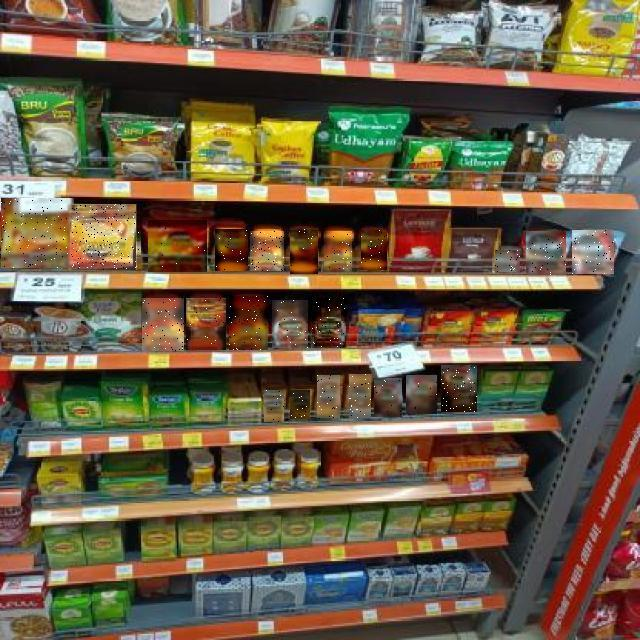Coffee: (2, 198, 76, 268), (72, 205, 140, 271), (148, 220, 207, 272), (142, 298, 184, 351), (229, 296, 268, 350), (186, 298, 226, 350), (572, 231, 614, 275), (526, 231, 566, 275), (272, 301, 308, 349), (312, 298, 346, 348), (441, 365, 477, 412), (215, 229, 248, 271), (250, 231, 284, 271), (291, 229, 319, 275), (406, 375, 437, 414), (325, 231, 353, 272), (375, 378, 403, 417), (361, 230, 387, 270), (317, 376, 340, 420), (349, 374, 371, 418), (265, 390, 285, 422), (290, 390, 310, 419), (496, 250, 522, 272)
